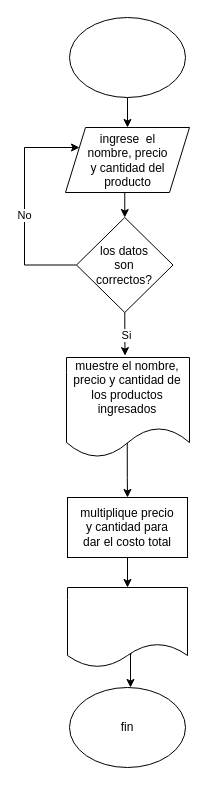
Some shapes in this 207 by 785 pixel diagram are drawn without their labels. Each missing label, with the centre of its shape:
"inicio" goes at pixel 127 57.
"Muestre el nombre del producto y el costo total" goes at pixel 127 627.
